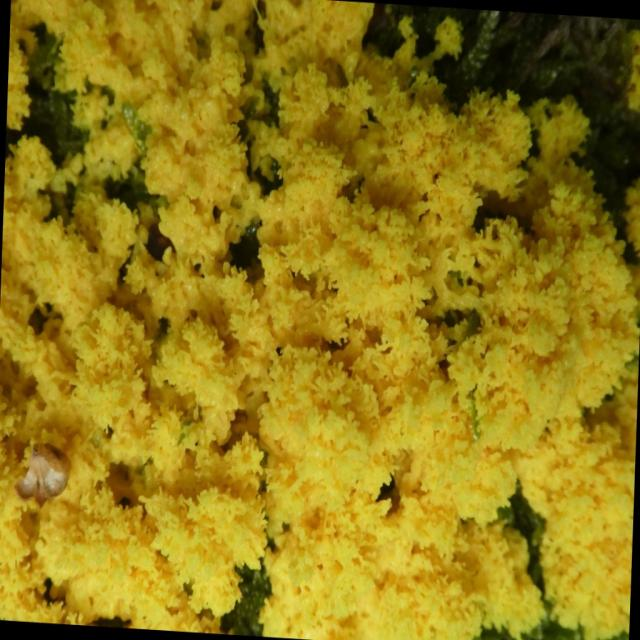Dog_vomit_slime_mold: (5, 8, 632, 640)
